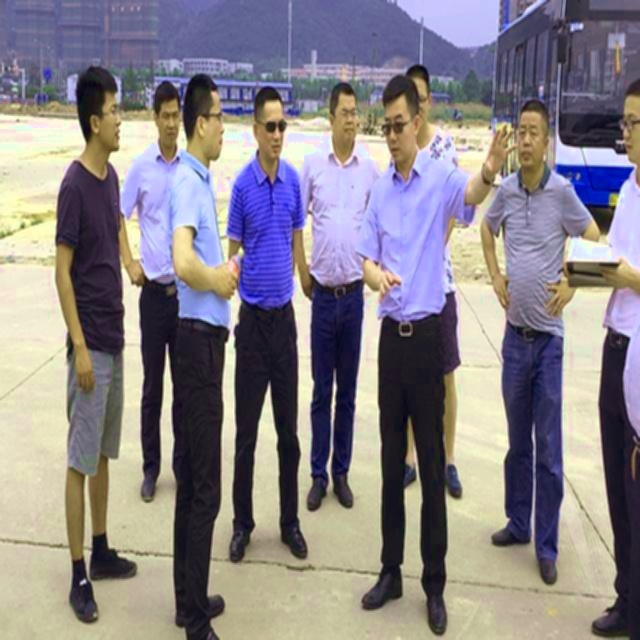Sin_Casco_Mascarrilla: (76, 67, 122, 157), (328, 82, 361, 150)
Sin_Chaleco: (56, 160, 125, 350), (166, 157, 231, 327), (231, 158, 305, 307)
